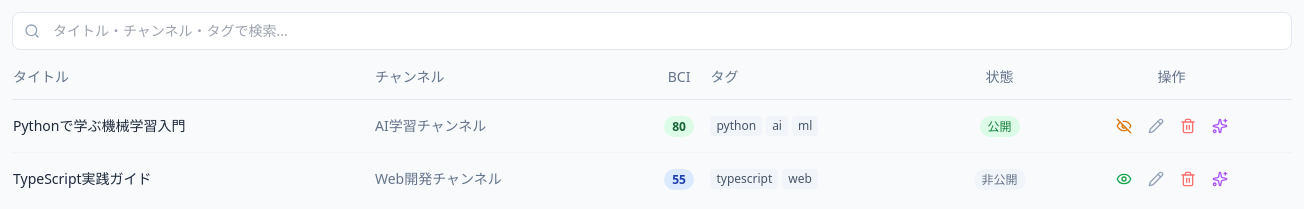
Test: VideoTable › 編集モード › 「キャンセル」をクリックすると編集モードが終了する
What coordinates should you click on to do the following:
click the button named "編集" in the row of "Pythonで学ぶ機械学習入門"
I would click on:
 (1156, 126)
Its box is [1142, 112, 1170, 140].
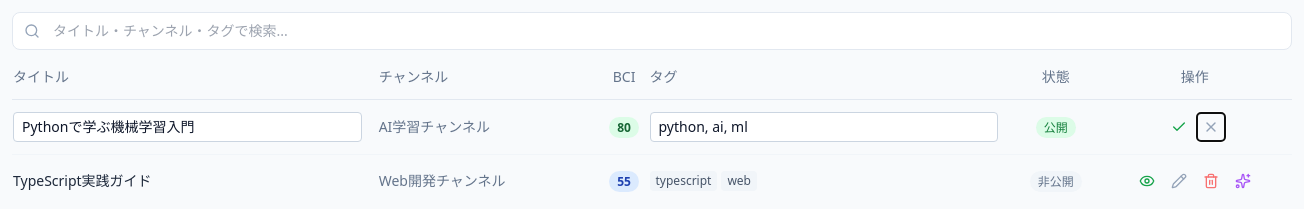
What coordinates should you click on to do the following:
click the button named "キャンセル"
I would click on:
 (1211, 127)
Its box is [1197, 113, 1225, 141].
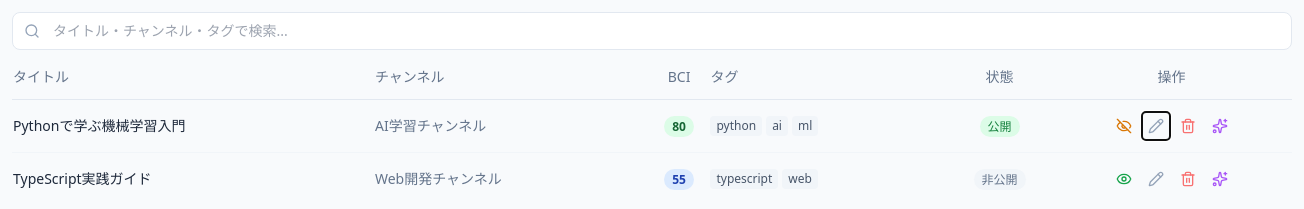
Check: the text "Pythonで学ぶ機械学習入門" is shown, box [13, 116, 185, 135]
